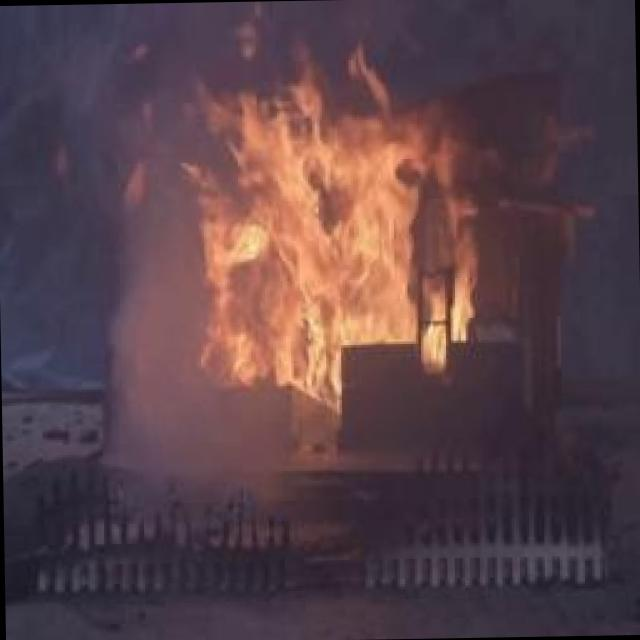fire: (131, 0, 495, 405)
